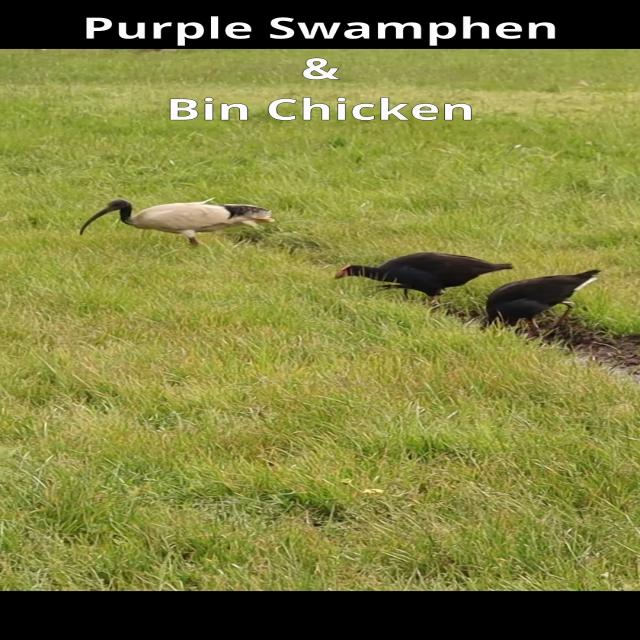Birds-Ibis: (79, 196, 277, 249)
